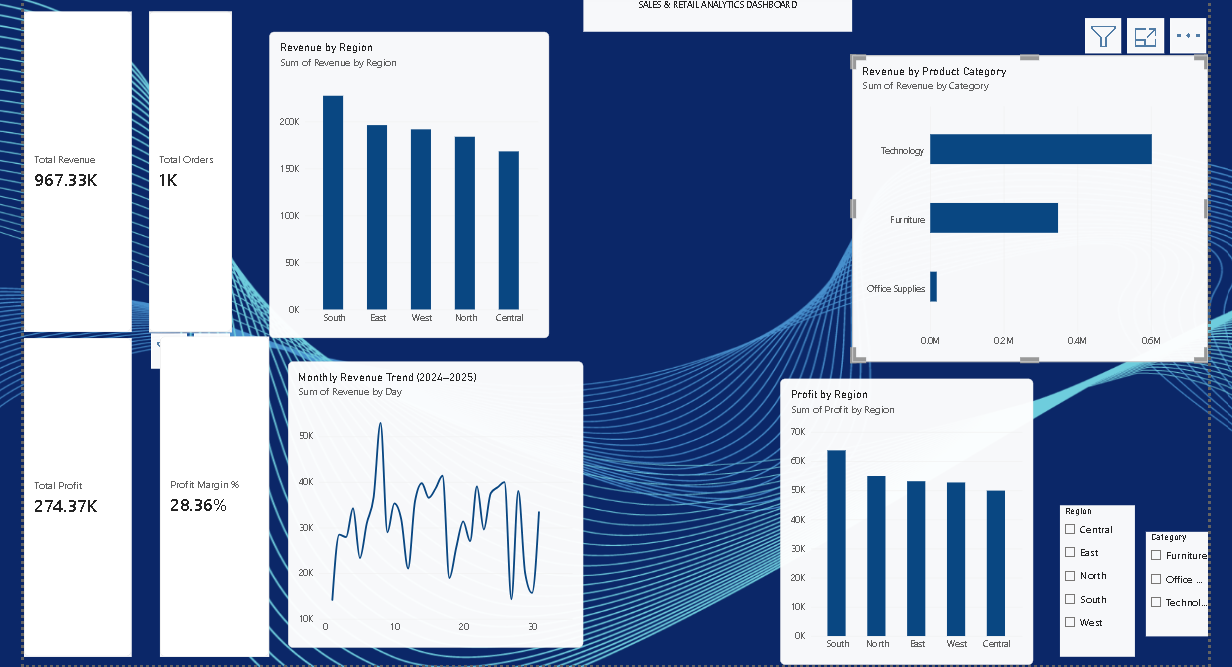

The dashboard page shown, as its layout file describes it:
{"tool":"powerbi","page":{"name":"Page 1","canvas":[1920,1080],"ordinal":0},"visuals":[{"type":"cardVisual","fields":{"Data":["sales_retail_dataset.Total Revenue"]},"box":[0,20.3,174.8,519.4],"z":0},{"type":"cardVisual","fields":{"Data":["sales_retail_dataset.Total Profit"]},"box":[0,549.8,174.8,516.9],"z":1},{"type":"cardVisual","fields":{"Data":["sales_retail_dataset.Total Orders"]},"box":[202.7,20.3,134.3,519.4],"z":2},{"type":"cardVisual","fields":{"Data":["sales_retail_dataset.Profit Margin %"]},"box":[220.4,547.3,177.4,519.4],"z":3},{"type":"lineChart","title":"Monthly Revenue Trend (2024–2025)","fields":{"Category":["sales_retail_dataset.OrderDate.Variation.Date Hierarchy.Year","sales_retail_dataset.OrderDate.Variation.Date Hierarchy.Quarter","sales_retail_dataset.OrderDate.Variation.Date Hierarchy.Month","sales_retail_dataset.OrderDate.Variation.Date Hierarchy.Day"],"Y":["Sum(sales_retail_dataset.Revenue)"]},"box":[428.2,587.8,478.9,463.7],"z":4},{"type":"clusteredColumnChart","title":"Revenue by Region","fields":{"Category":["sales_retail_dataset.Region"],"Y":["Sum(sales_retail_dataset.Revenue)"]},"box":[397.8,53.2,453.6,496.6],"z":5},{"type":"clusteredBarChart","title":"Revenue by Product Category","fields":{"Category":["sales_retail_dataset.Category"],"Y":["Sum(sales_retail_dataset.Revenue)"]},"box":[1512.7,53.2,407,497],"z":6},{"type":"clusteredColumnChart","title":"Profit by Region","fields":{"Category":["sales_retail_dataset.Region"],"Y":["Sum(sales_retail_dataset.Profit)"]},"box":[1226.4,615.7,410.5,463.7],"z":7},{"type":"slicer","fields":{"Values":["sales_retail_dataset.Region"]},"box":[1679.9,821,121.6,245.8],"z":8},{"type":"slicer","fields":{"Values":["sales_retail_dataset.Category"]},"box":[1819.3,864,101.4,169.8],"z":9},{"type":"textbox","box":[907.1,0,435.8,53.2],"z":10}]}

Visuals, with their boxes in screenshot pixels (x1, y1, x2, y2):
cardVisual - sales_retail_dataset.Total Revenue: rect(22, 12, 129, 329)
cardVisual - sales_retail_dataset.Total Profit: rect(22, 335, 129, 650)
cardVisual - sales_retail_dataset.Total Orders: rect(146, 12, 228, 329)
cardVisual - sales_retail_dataset.Profit Margin %: rect(157, 334, 265, 650)
"Monthly Revenue Trend (2024–2025)" lineChart: rect(283, 358, 575, 641)
"Revenue by Region" clusteredColumnChart: rect(265, 32, 541, 335)
"Revenue by Product Category" clusteredBarChart: rect(944, 32, 1192, 335)
"Profit by Region" clusteredColumnChart: rect(770, 375, 1020, 658)
slicer - sales_retail_dataset.Region: rect(1046, 500, 1120, 650)
slicer - sales_retail_dataset.Category: rect(1131, 526, 1193, 630)
textbox: rect(575, 0, 841, 32)
